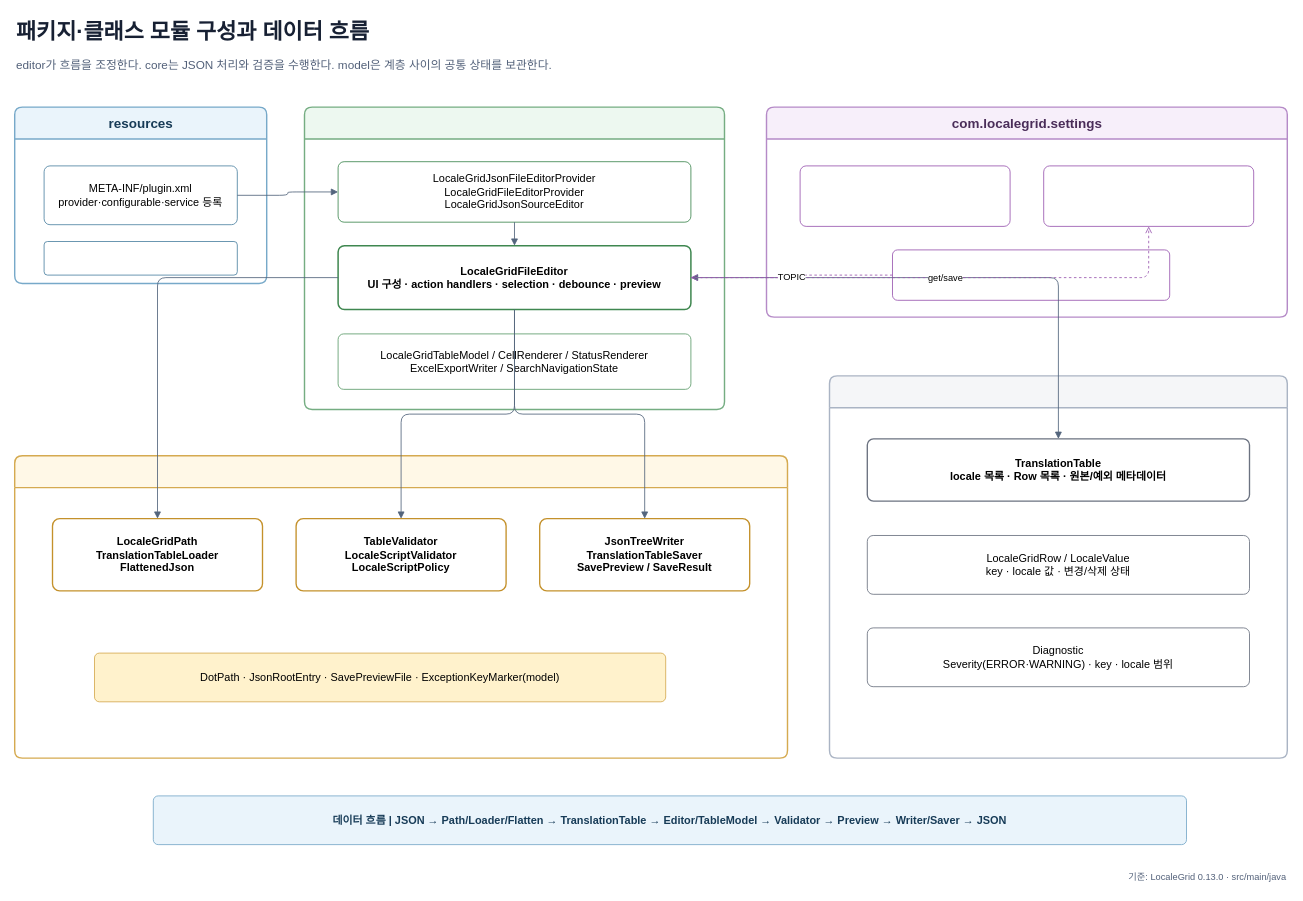
Image size: 1303x901. Some labels were removed from this diagram. Each missing label, with the box of its shape:
com.localegrid.core: (14, 455, 788, 758)
com.localegrid.editor: (303, 106, 725, 410)
com.localegrid.model: (828, 375, 1288, 758)
LocaleGridSettingsConfigurable 설정 UI·apply·dirty guard: (799, 165, 1010, 226)
LocaleGridSettingsListener.TOPIC 구조 변경 reload / 정책 변경 revalidate: (892, 249, 1170, 300)
LocaleGridSettingsState PersistentStateComponent: (1043, 165, 1254, 226)
pluginIcon.svg / icons: (43, 241, 237, 275)
